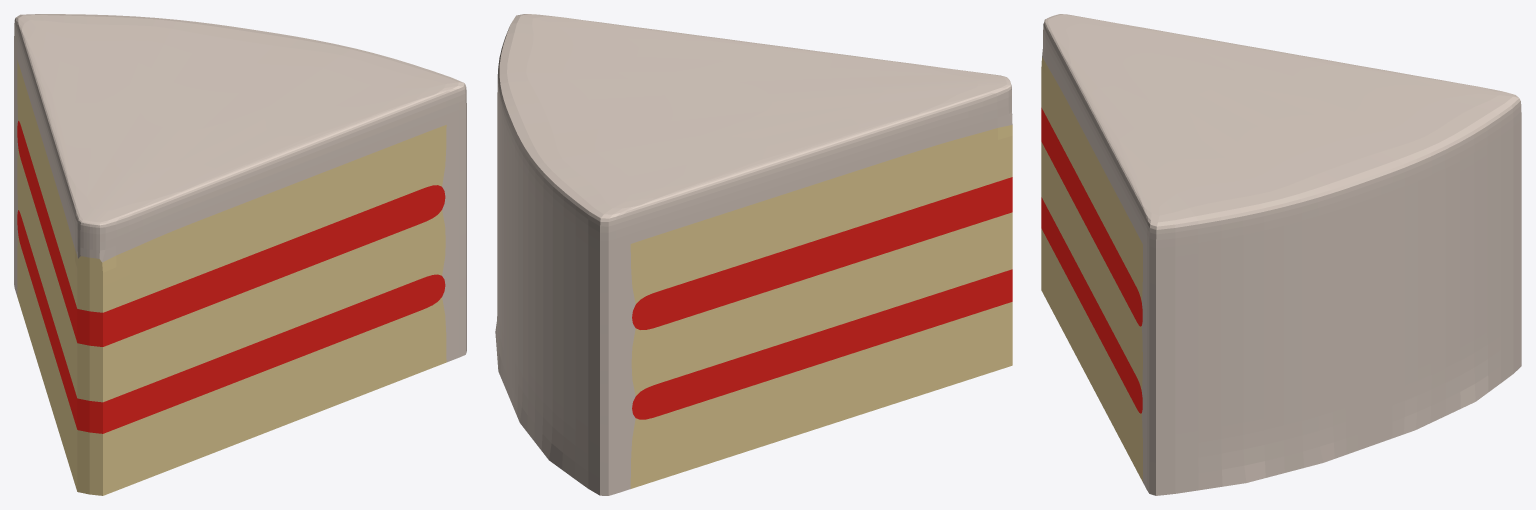
The model's file is CAKE.fbx.
3 views of the same model, side by side, from view 1: azimuth 30°, elevation 25°; view 2: azimuth 150°, elevation 25°; view 3: azimuth 270°, elevation 25° (orthographic). The views are drawn at different scales.
Parts seen in each view (by area): view 1: Cube.001; view 2: Cube.001; view 3: Cube.001.
Part boxes in pixels (x1,y1,x2,y2): Cube.001: [14, 14, 466, 495]; Cube.001: [495, 14, 1012, 495]; Cube.001: [1041, 14, 1521, 495].
Bounding box in the file's own units: 204 × 121 × 194.
